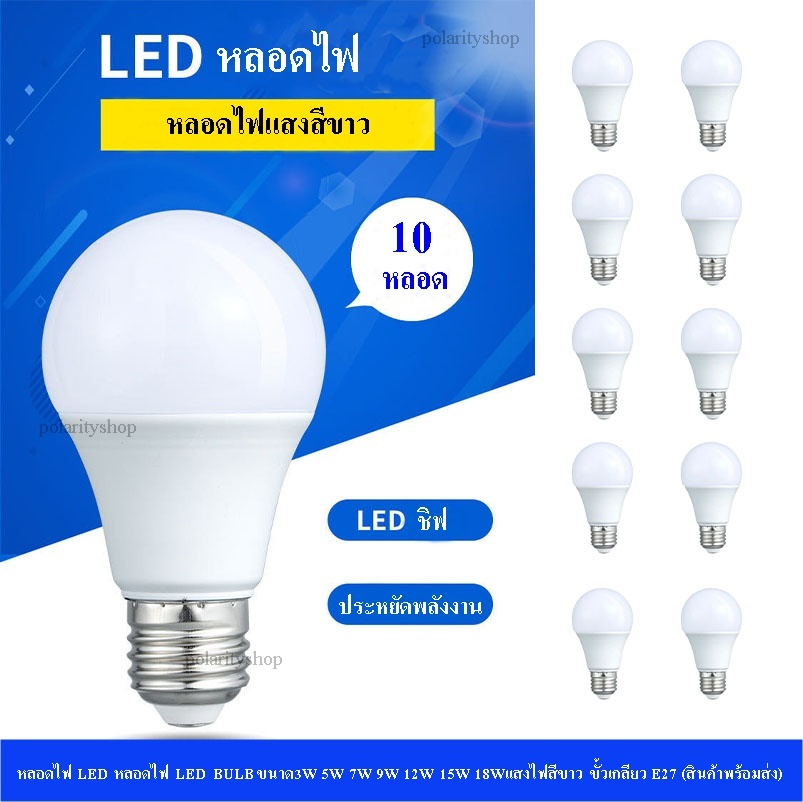Light_bulb: (39, 197, 329, 730), (564, 438, 635, 566), (676, 435, 744, 559), (677, 577, 745, 701), (572, 579, 640, 703), (675, 303, 743, 427), (569, 296, 637, 420), (567, 166, 635, 290), (674, 167, 742, 291), (678, 29, 746, 153), (566, 30, 634, 154)
